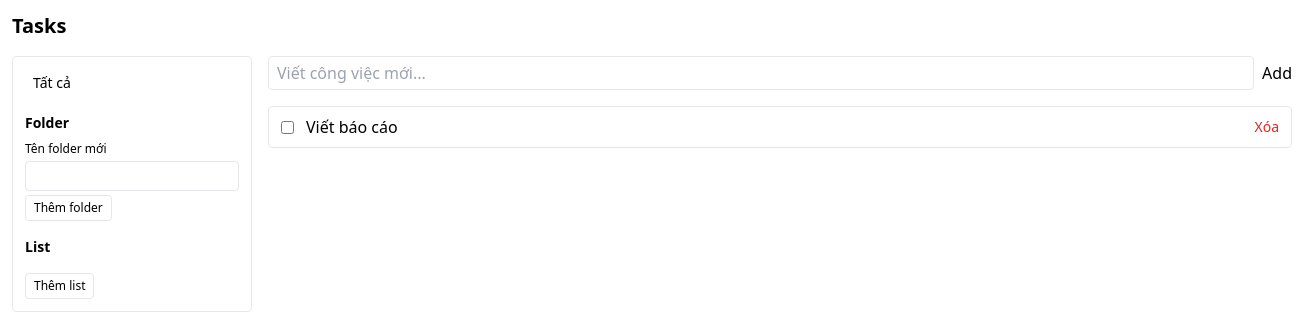
Test: TasksPage nối server actions › hiện lỗi và giữ nguyên task khi server action thất bại
In the field named "title": (761, 73) [268,56,1254,90], type "Sẽ lỗi"
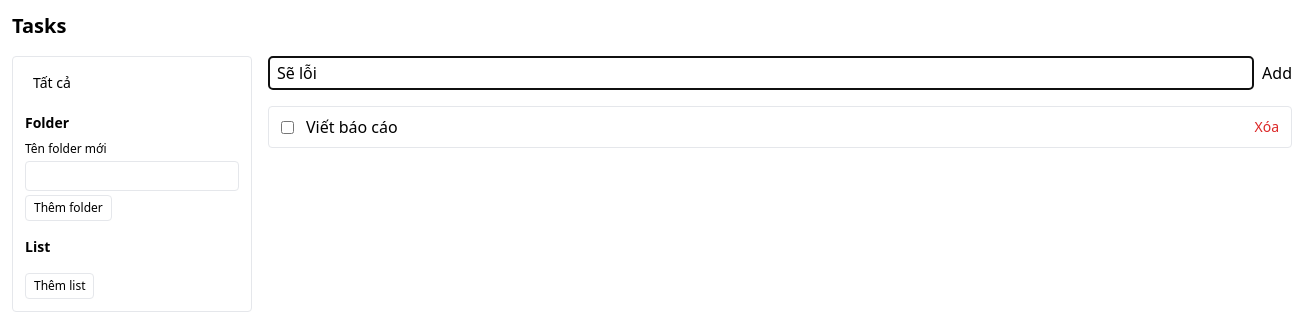
Click the button "Add": (1277, 73) [1262,56,1292,90]
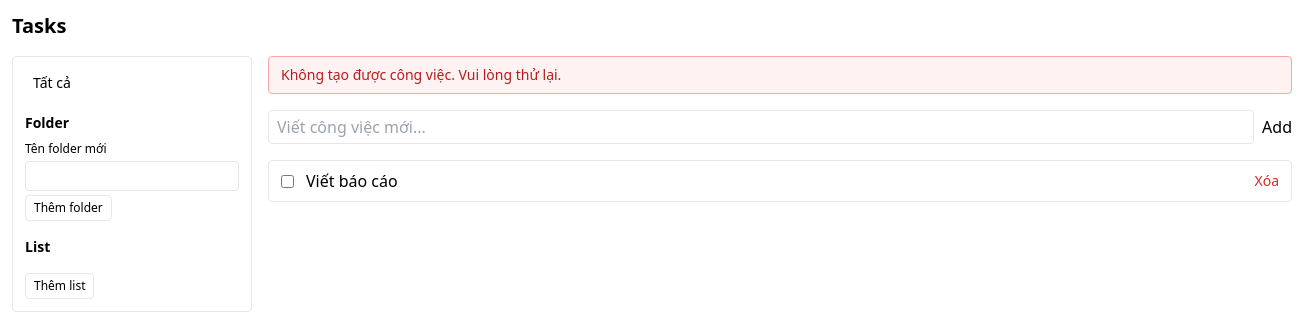
Expected: the text "Viết báo cáo" is shown, [306,170,398,192]
Now the message shows "Không tạo được", box [281,65,561,84]
